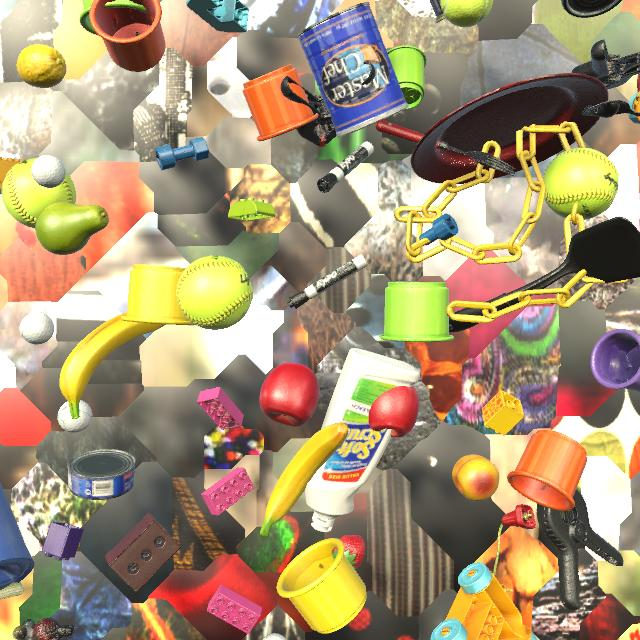ycb_002_master_chef_can: (297, 2, 408, 137)
ycb_007_tuna_fish_can: (67, 449, 136, 500), (561, 0, 622, 18)
ycb_010_potted_meat_can: (429, 0, 445, 23)
ycb_011_banana: (59, 312, 166, 419), (260, 423, 348, 537)
ycb_012_strawberry: (332, 535, 365, 569)
ycb_013_apple: (260, 363, 319, 427), (368, 386, 419, 438)
ycb_014_lemon: (17, 44, 67, 88)
ycb_015_peach: (452, 454, 500, 502)
ycb_016_pear: (35, 202, 109, 255)
